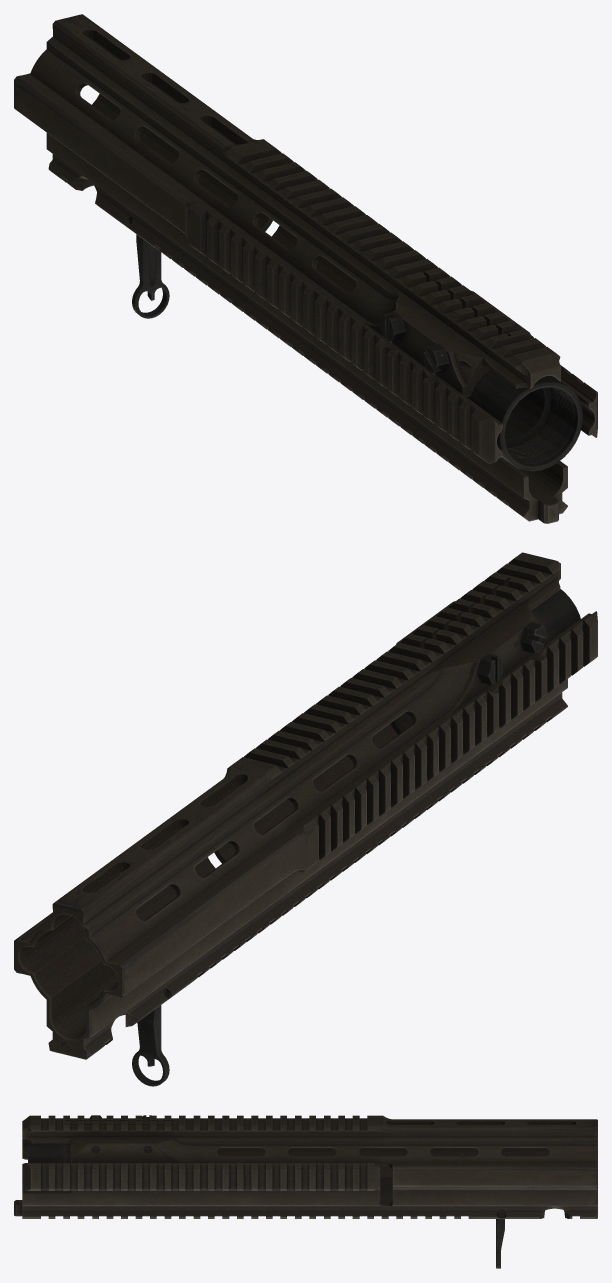
3 renders of one model, top to bottom at view 1: azimuth 30°, elevation 25°; view 2: azimuth 150°, elevation 25°; view 3: azimuth 270°, elevation 25°, orthographic. The views are drawn at different scales.
Parts seen in each view (by area): view 1: TW_61703001d92c473c77021497_unfolded_PZ_Import; view 2: TW_61703001d92c473c77021497_unfolded_PZ_Import; view 3: TW_61703001d92c473c77021497_unfolded_PZ_Import.
Boxes of the visible parts, left/top/right/bottom form: TW_61703001d92c473c77021497_unfolded_PZ_Import: left=14, top=14, right=597, bottom=523; TW_61703001d92c473c77021497_unfolded_PZ_Import: left=14, top=552, right=597, bottom=1086; TW_61703001d92c473c77021497_unfolded_PZ_Import: left=14, top=1115, right=597, bottom=1268.
Size of the model in its own units: 0.0329 by 0.2331 by 0.0648.
Materials: 1 (1 with a texture image).
